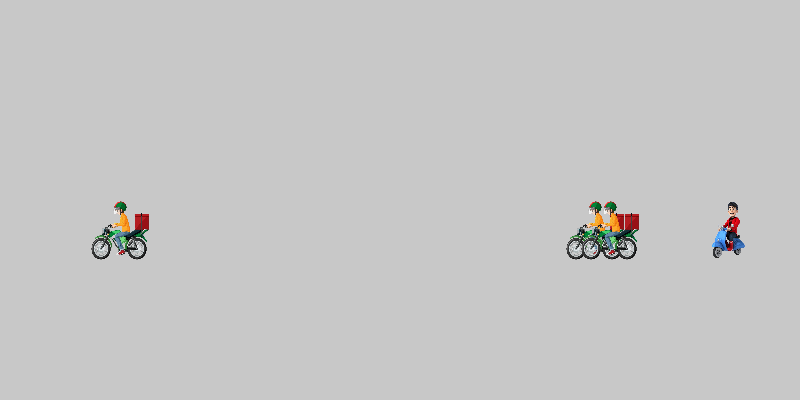helmet: (90, 200, 150, 260), (565, 200, 625, 260), (580, 200, 640, 260)
no_helmet: (700, 200, 760, 260)
